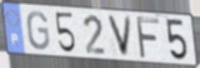2: (81, 13, 108, 57)
5: (165, 18, 189, 63), (53, 10, 76, 54)
F: (135, 15, 162, 61)
G: (26, 10, 51, 52)
V: (105, 13, 134, 58)
